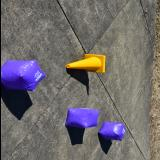cone: (64, 54, 104, 74)
cube: (0, 59, 45, 92), (64, 108, 98, 128), (97, 121, 125, 141)
